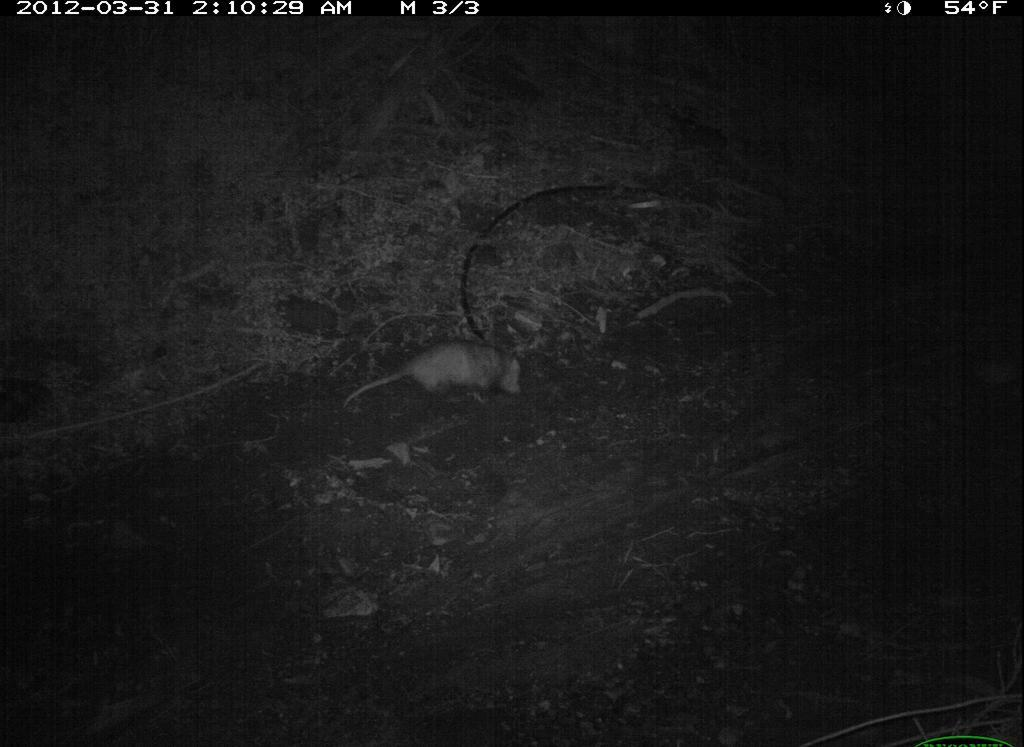opossum: (341, 338, 529, 420)
